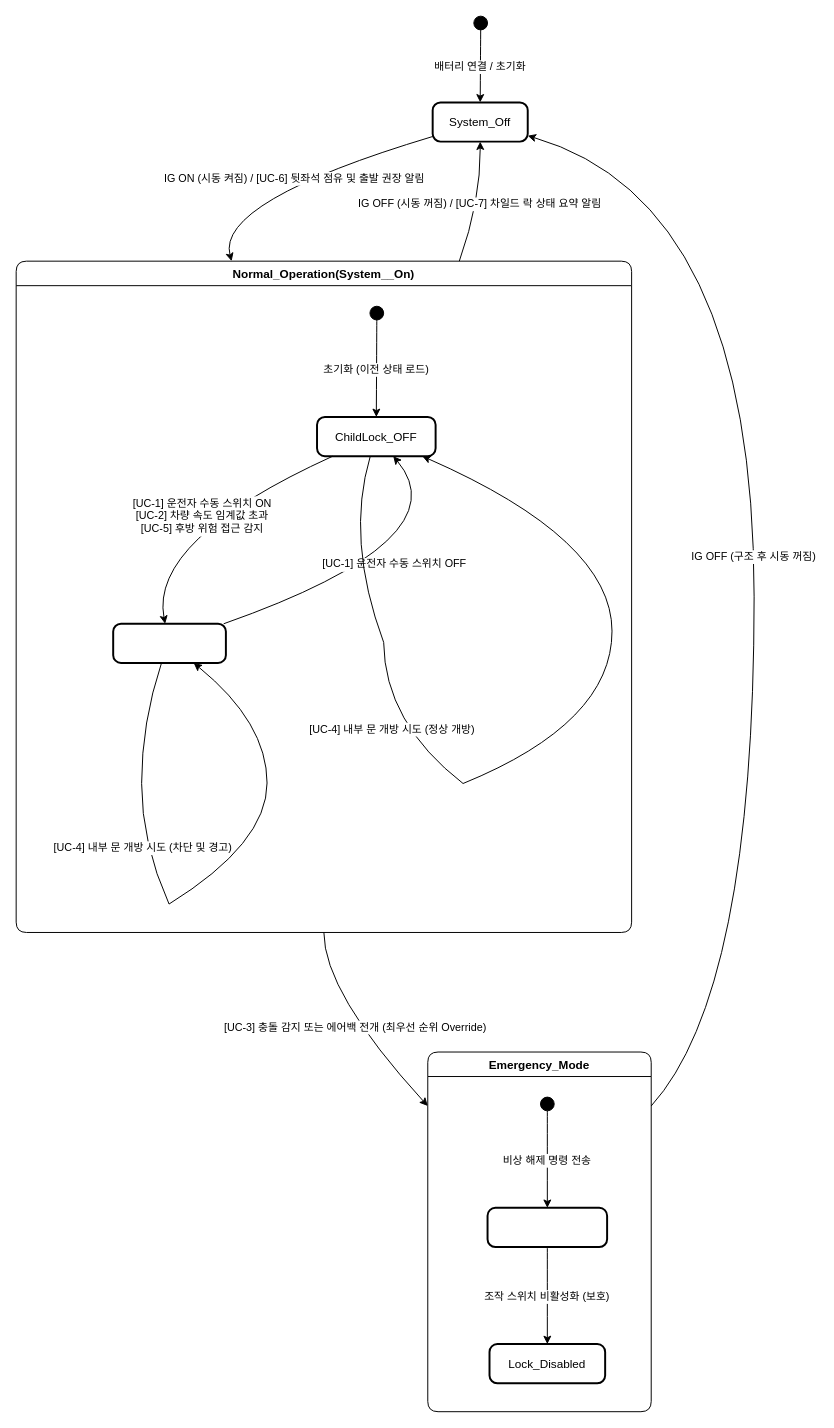
Image size: 834x1428. Some labels were removed from this diagram. Each missing label, with the box of its shape:
ChildLock_ON: (112, 622, 226, 663)
Forced_Unlock: (486, 1206, 608, 1248)
